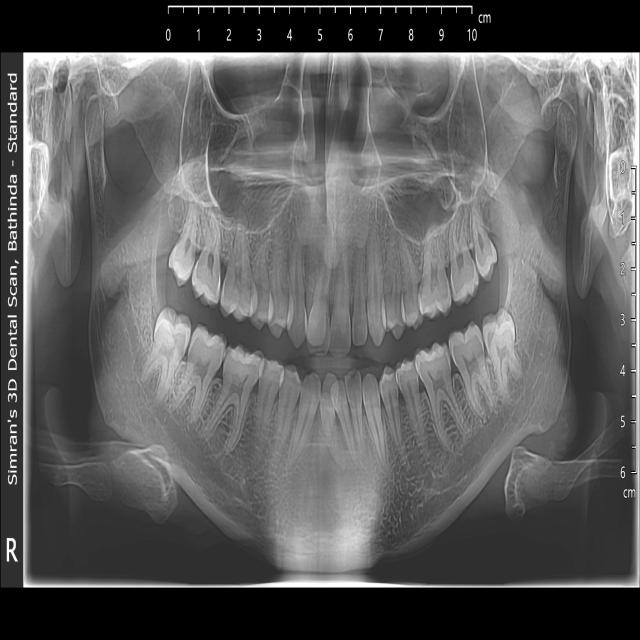Mandibular Canal: (108, 279, 251, 507), (428, 271, 552, 495)
impacted tooth: (138, 306, 192, 407), (484, 309, 525, 400)
maxillary sinus: (368, 52, 489, 244), (181, 64, 303, 234)
